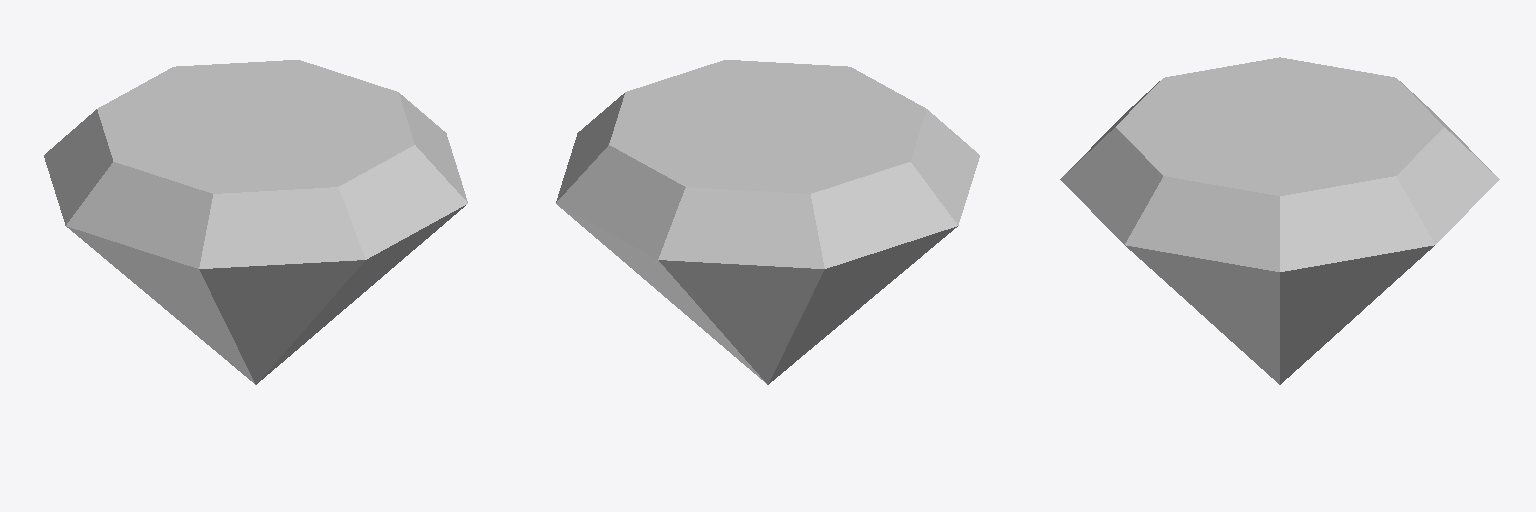
The model's file is gem2.obj.
3 renders of one model, left to right at view 1: azimuth 30°, elevation 25°; view 2: azimuth 150°, elevation 25°; view 3: azimuth 270°, elevation 25°, orthographic.
Visible parts, largest first — view 1: diamond.002_Sphere.002; view 2: diamond.002_Sphere.002; view 3: diamond.002_Sphere.002.
Boxes of the visible parts, x1,y1,x2,y2 form: diamond.002_Sphere.002: [44, 60, 467, 384]; diamond.002_Sphere.002: [556, 60, 979, 384]; diamond.002_Sphere.002: [1060, 57, 1499, 384].
Size of the model in its own units: 2.31 by 1.5 by 2.31.